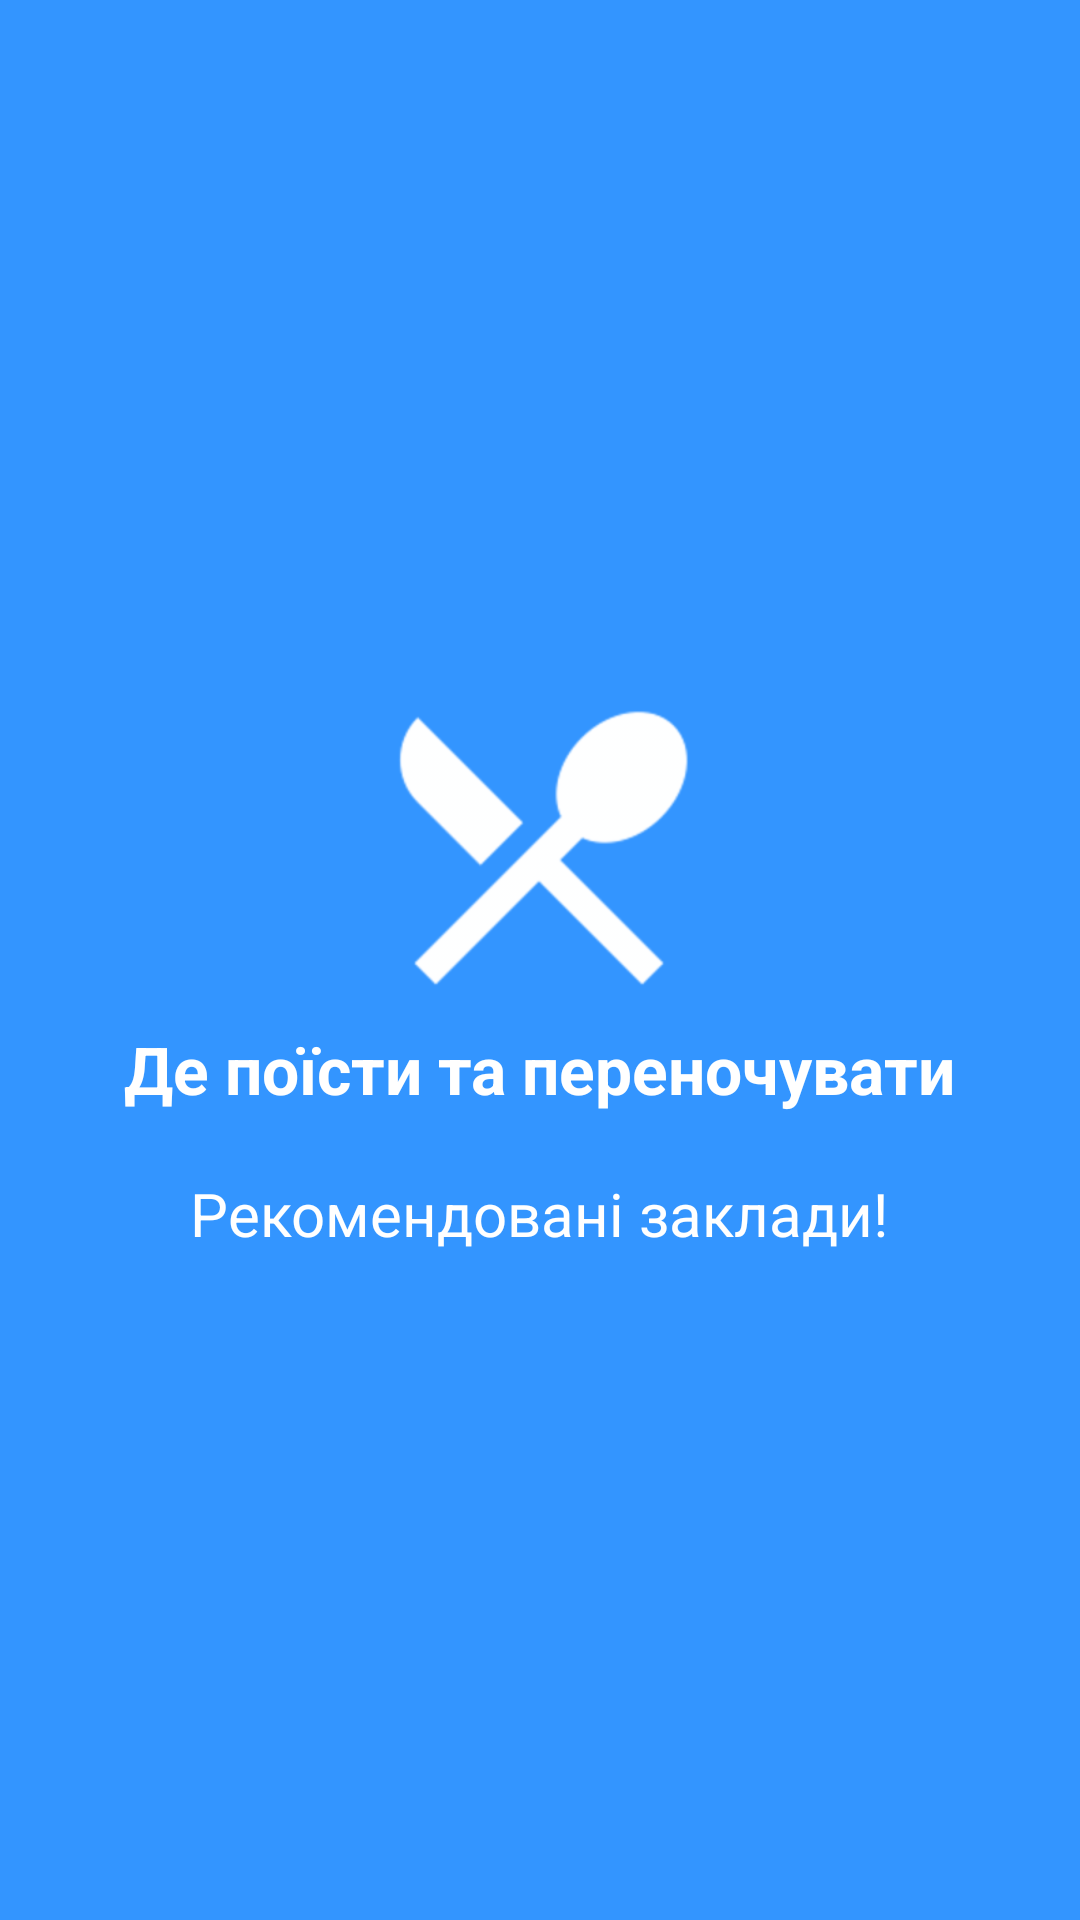

Named icons in this screenshot (1080*1920) and their centers, (x,y):
local dining: (543,848)
